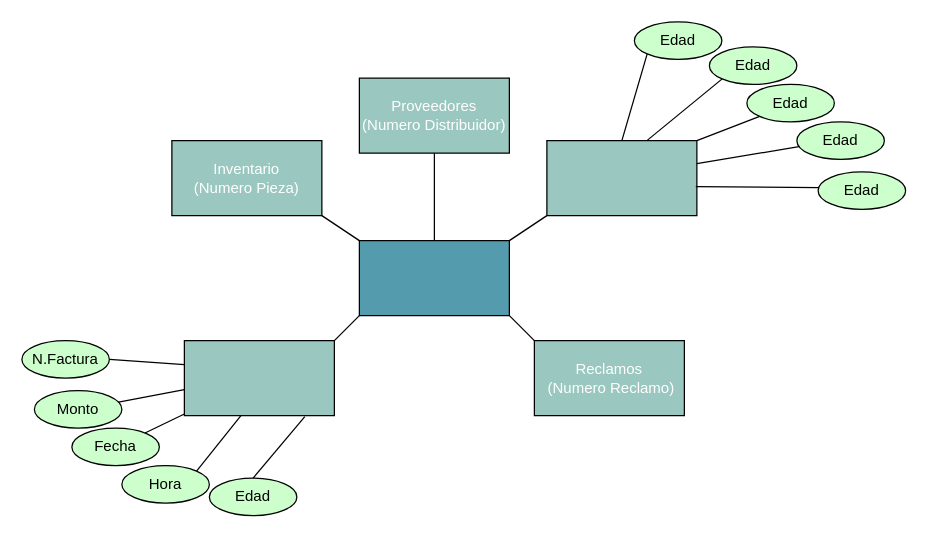
Image size: 928x538. Some labels were removed from this diagram. The centre of each missing label's shape, as x and y in pixels:
Clientes (Cliente ID): the point at 621,177
PYME: the point at 433,277
Ventas (Numero Factura): the point at 258,377
